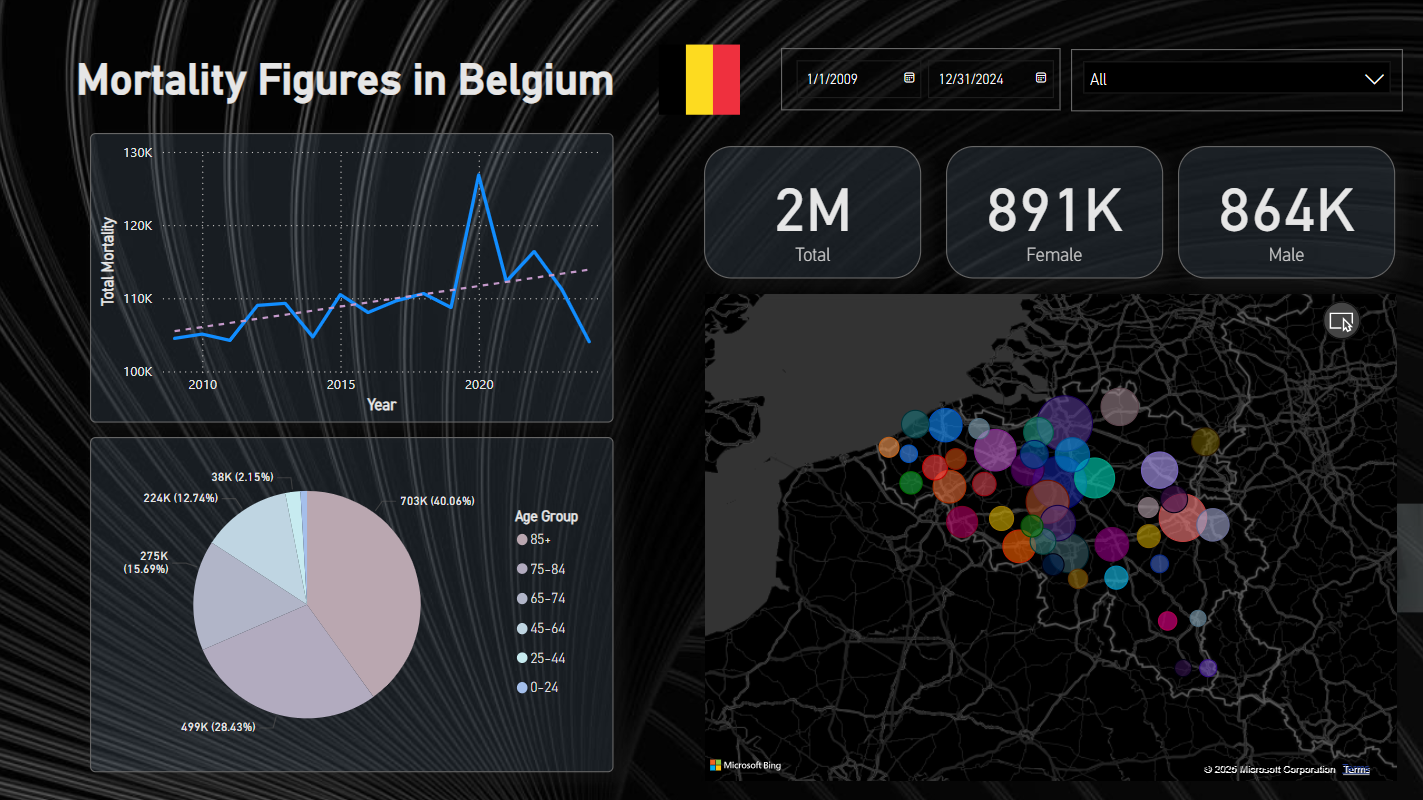

Layout of this report page (visuals, bound fields, positions):
{"tool":"powerbi","page":{"name":"Page 1","canvas":[1280,720],"ordinal":0},"visuals":[{"type":"lineChart","fields":{"Category":["Calendar.Date.Variation.Date Hierarchy.Year","Calendar.Date.Variation.Date Hierarchy.Quarter","Calendar.Date.Variation.Date Hierarchy.Month","Calendar.Date.Variation.Date Hierarchy.Day"],"Y":["Metrics.TOTAL_DEATH"]},"box":[81.6,119.7,469.7,260.3],"z":0},{"type":"pieChart","fields":{"Category":["DEMO_DEATH_OPEN.CD_AGEGROUP"],"Y":["Metrics.TOTAL_DEATH"]},"box":[81.6,392.6,469.7,301.1],"z":1000},{"type":"map","fields":{"Y":["CD_ARR.LAT"],"X":["CD_ARR.LON"],"Series":["CD_ARR.TX_DESCR_FR"],"Size":["Metrics.TOTAL_DEATH"]},"box":[628.4,258.4,632,448],"z":2000},{"type":"slicer","fields":{"Values":["CD_REGIO.TX_DESCR_FR"]},"box":[962.1,44.4,298.3,56.2],"z":3000},{"type":"slicer","fields":{"Values":["Calendar.Date"]},"box":[701.9,43.5,251.2,56.2],"z":4000},{"type":"textbox","box":[64.4,43.5,503.3,58],"z":5000},{"type":"image","box":[506.9,35.4,243,72.5],"z":6000},{"type":"card","fields":{"Values":["Metrics.DEATH_FEMALE"]},"box":[850.6,131.5,195,118.8],"z":7000},{"type":"card","fields":{"Values":["Metrics.DEATH_MALE"]},"box":[1058.2,131.5,195,118.8],"z":8000},{"type":"card","fields":{"Values":["Metrics.TOTAL_DEATH"]},"box":[632.9,131.5,195,118.8],"z":9000}]}

Visuals, with their boxes in screenshot pixels (x1, y1, x2, y2), scaled from the page's 1280x720 canvas onto the 1423x800 screenshot:
lineChart - Calendar.Date.Variation.Date Hierarchy.Year x Calendar.Date.Variation.Date Hierarchy.Quarter: {"left": 91, "top": 133, "right": 613, "bottom": 422}
pieChart - DEMO_DEATH_OPEN.CD_AGEGROUP x Metrics.TOTAL_DEATH: {"left": 91, "top": 436, "right": 613, "bottom": 771}
map - CD_ARR.LAT x CD_ARR.LON: {"left": 699, "top": 287, "right": 1401, "bottom": 785}
slicer - CD_REGIO.TX_DESCR_FR: {"left": 1070, "top": 49, "right": 1401, "bottom": 112}
slicer - Calendar.Date: {"left": 780, "top": 48, "right": 1060, "bottom": 111}
textbox: {"left": 72, "top": 48, "right": 631, "bottom": 113}
image: {"left": 564, "top": 39, "right": 834, "bottom": 120}
card - Metrics.DEATH_FEMALE: {"left": 946, "top": 146, "right": 1162, "bottom": 278}
card - Metrics.DEATH_MALE: {"left": 1176, "top": 146, "right": 1393, "bottom": 278}
card - Metrics.TOTAL_DEATH: {"left": 704, "top": 146, "right": 920, "bottom": 278}
